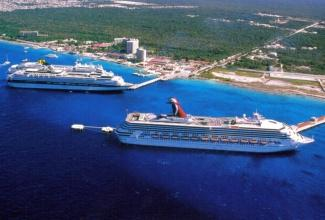youlun: (109, 116, 310, 152), (4, 52, 132, 91)
